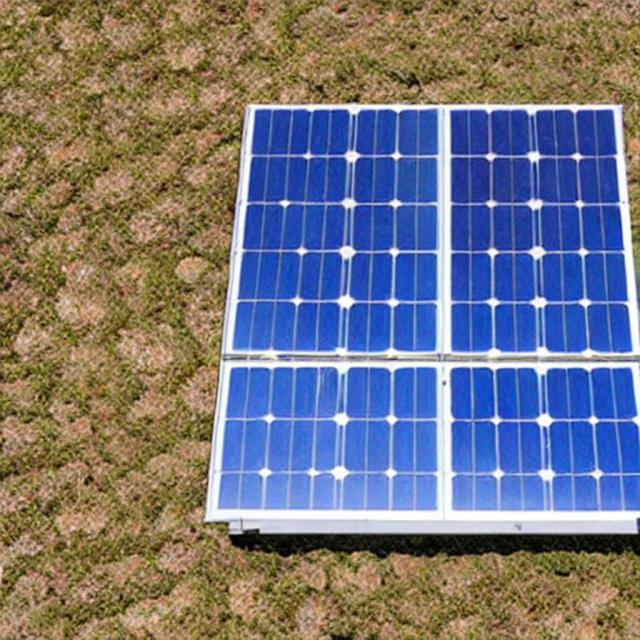no faulty: (233, 101, 636, 512)
